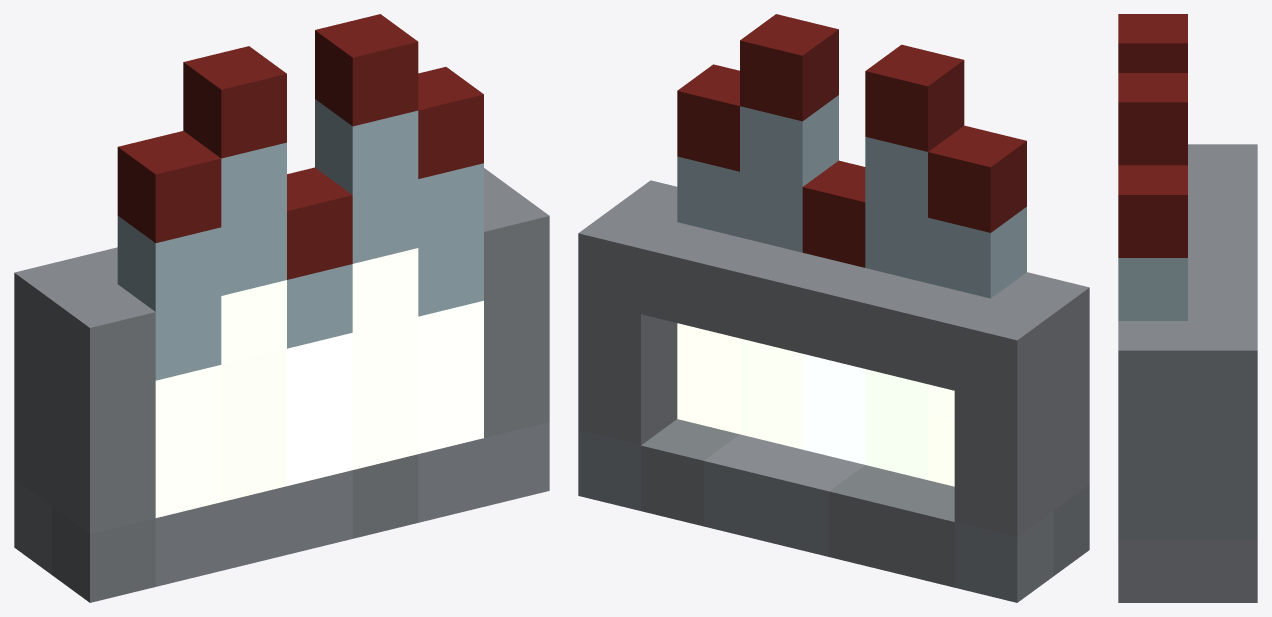
The model's file is tubes.glb.
3 renders of one model, left to right at view 1: azimuth 30°, elevation 25°; view 2: azimuth 150°, elevation 25°; view 3: azimuth 270°, elevation 25°, orthographic. The views are drawn at different scales.
Visible parts, largest first — view 1: voxel__tubes__ns; view 2: voxel__tubes__ns; view 3: voxel__tubes__ns.
Part boxes in pixels (x1,y1,x2,y2): voxel__tubes__ns: (14, 14, 549, 602); voxel__tubes__ns: (578, 14, 1089, 602); voxel__tubes__ns: (1118, 14, 1257, 602).
Size of the model in its own units: 0.35 by 0.35 by 0.1.
